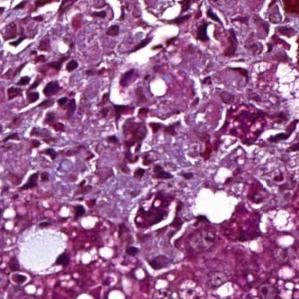ballooning: (273, 62, 299, 125), (258, 204, 299, 235)
